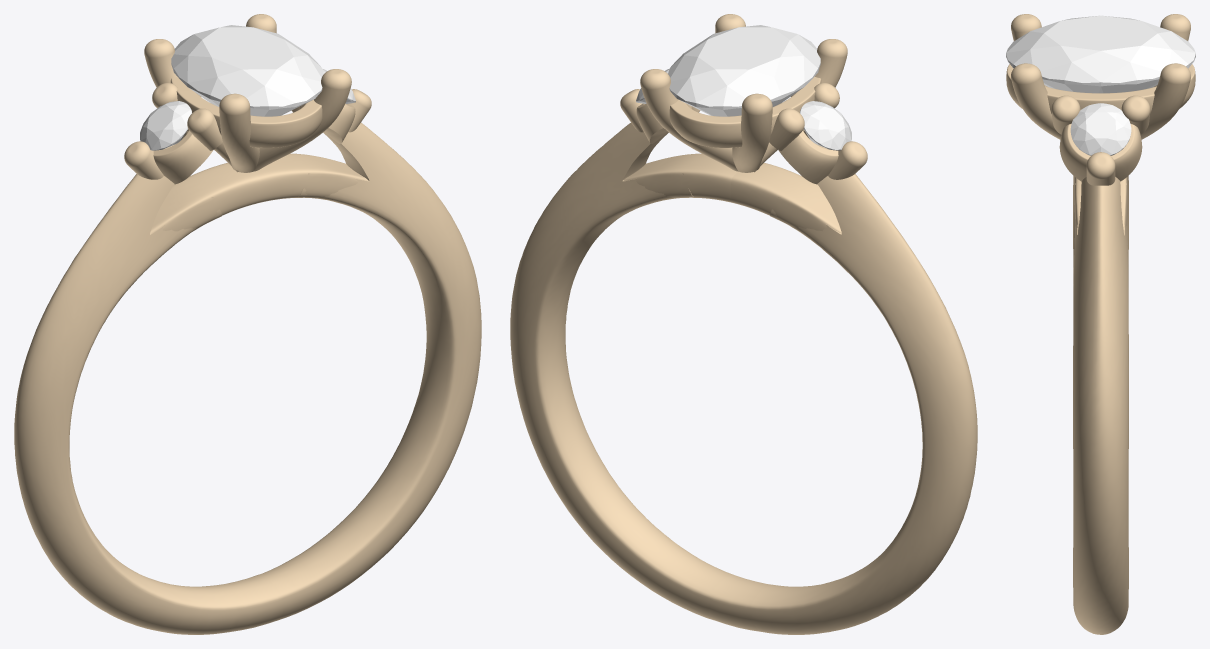
File: scene EXPORT Raw.glb
The picture shows the model from 3 angles, left to right: view 1: azimuth 30°, elevation 25°; view 2: azimuth 150°, elevation 25°; view 3: azimuth 270°, elevation 25°; orthographic projection.
Visible parts, largest first — view 1: Q_93946_R45655_V_23dm; view 2: Q_93946_R45655_V_23dm; view 3: Q_93946_R45655_V_23dm.
Boxes of the visible parts, x1=… form: Q_93946_R45655_V_23dm: x1=14, y1=14, x2=481, y2=634; Q_93946_R45655_V_23dm: x1=510, y1=14, x2=977, y2=634; Q_93946_R45655_V_23dm: x1=1006, y1=14, x2=1195, y2=634.
Size of the model in its own units: 2.5 by 2.99 by 0.8941.
